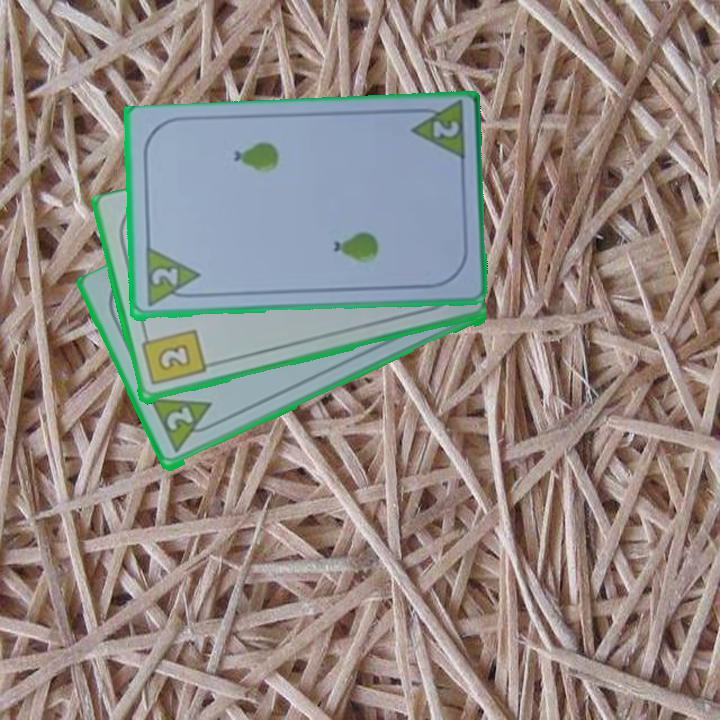2b: (138, 326, 208, 389)
2p: (147, 395, 223, 457), (141, 246, 202, 311), (429, 117, 462, 141)
